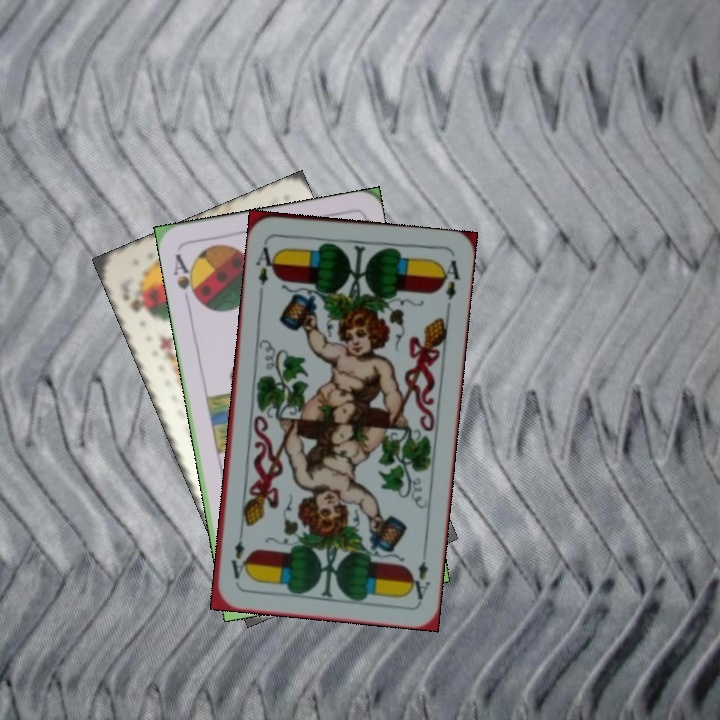EA: (406, 544, 433, 602), (251, 237, 280, 288)
SA: (169, 249, 202, 305)
SK: (119, 290, 153, 321)
